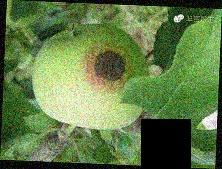rotten apple: (32, 21, 155, 129)
